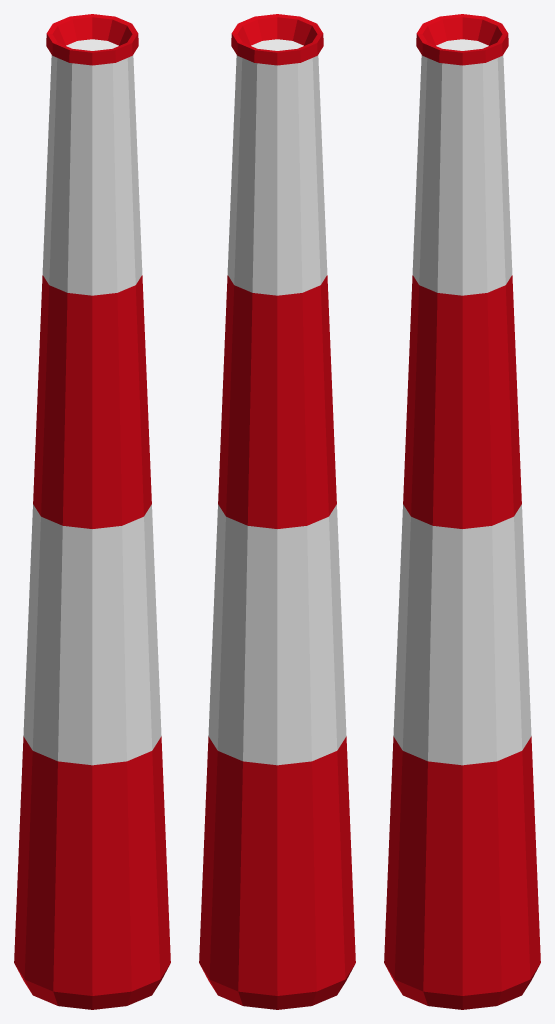
The model's file is buhar_kulesi.fbx.
The picture shows the model from 3 angles, left to right: view 1: azimuth 30°, elevation 25°; view 2: azimuth 150°, elevation 25°; view 3: azimuth 270°, elevation 25°; orthographic projection.
Parts seen in each view (by area): view 1: buhar_kulesi; view 2: buhar_kulesi; view 3: buhar_kulesi.
Part boxes in pixels (left/top/right/bottom): buhar_kulesi: left=14, top=14, right=170, bottom=1009; buhar_kulesi: left=199, top=14, right=355, bottom=1009; buhar_kulesi: left=384, top=14, right=540, bottom=1009.
Bounding box in the file's own units: 150 × 1000 × 150.
